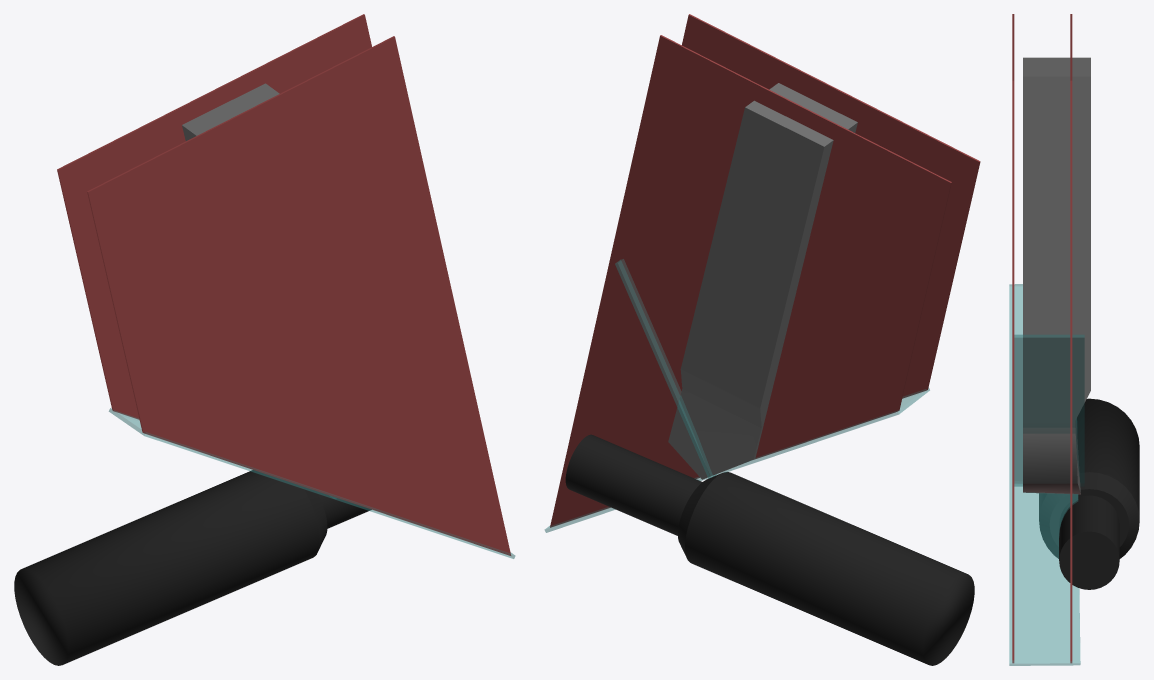
The model's file is chedaoIntro4.FBX.
The picture shows the model from 3 angles, left to right: view 1: azimuth 30°, elevation 25°; view 2: azimuth 150°, elevation 25°; view 3: azimuth 270°, elevation 25°; orthographic projection. The views are drawn at different scales.
Parts seen in each view (by area): view 1: 被加工原料; view 2: 被加工原料; view 3: 被加工原料.
Part boxes in pixels (box(x1,y1,x2,y2)): 被加工原料: box(14, 14, 515, 665); 被加工原料: box(544, 14, 980, 665); 被加工原料: box(1009, 14, 1139, 665).
Size of the model in its own units: 99.43 by 26.47 by 125.
